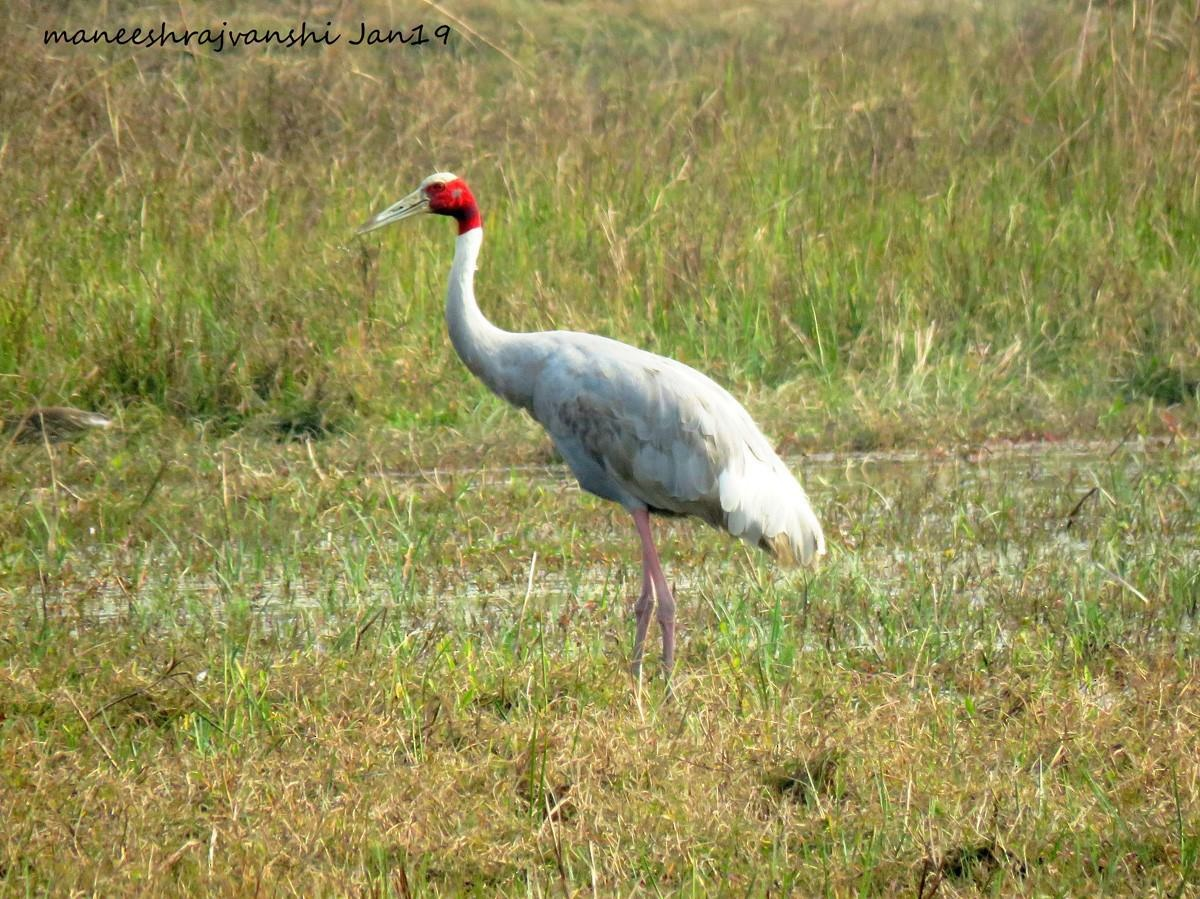crane: (352, 159, 867, 686)
